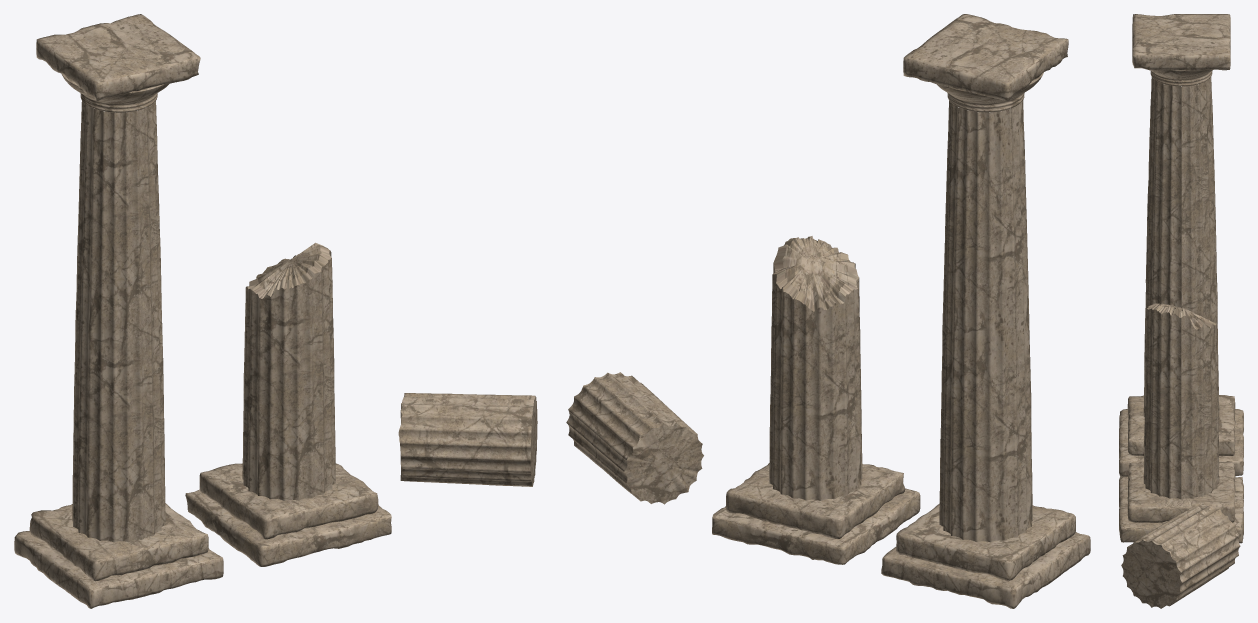
File: greek_column.glb
The picture shows the model from 3 angles, left to right: view 1: azimuth 30°, elevation 25°; view 2: azimuth 150°, elevation 25°; view 3: azimuth 270°, elevation 25°; orthographic projection. The views are drawn at different scales.
Parts seen in each view (by area): view 1: greek_column_intact_mesh, greek_column_broken_mesh, greek_column_drum_mesh; view 2: greek_column_intact_mesh, greek_column_broken_mesh, greek_column_drum_mesh; view 3: greek_column_intact_mesh, greek_column_broken_mesh, greek_column_drum_mesh.
Boxes of the visible parts, <box> form: greek_column_intact_mesh: <box>14,14,223,608</box>; greek_column_broken_mesh: <box>185,242,391,566</box>; greek_column_drum_mesh: <box>398,393,537,486</box>; greek_column_intact_mesh: <box>881,14,1090,608</box>; greek_column_broken_mesh: <box>712,236,920,564</box>; greek_column_drum_mesh: <box>566,372,703,504</box>; greek_column_intact_mesh: <box>1119,14,1243,476</box>; greek_column_broken_mesh: <box>1119,303,1243,543</box>; greek_column_drum_mesh: <box>1121,503,1240,608</box>.
Size of the model in its own units: 5.14 by 5.24 by 1.42.
Materials: 1 (1 with a texture image).
